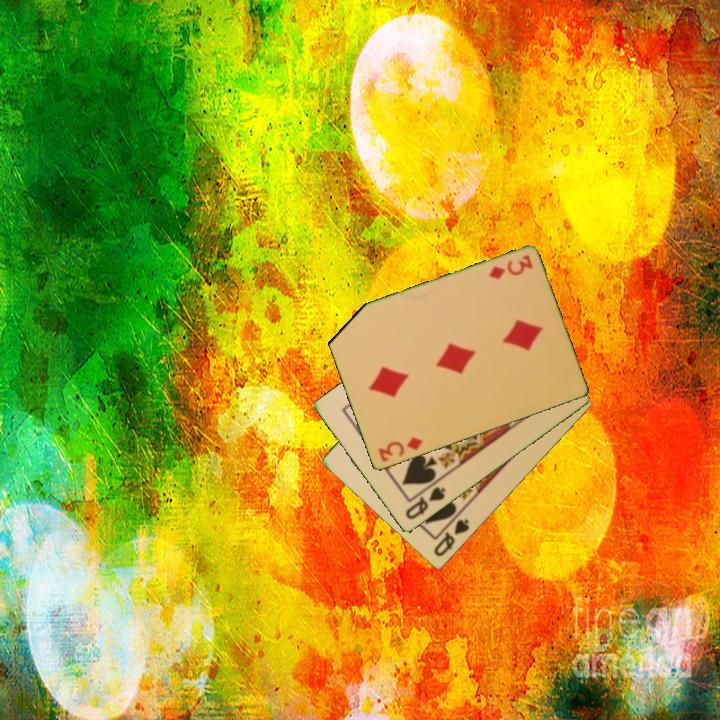3d: (375, 433, 426, 465), (485, 252, 535, 282)
Qs: (430, 516, 472, 560), (402, 484, 449, 523)
